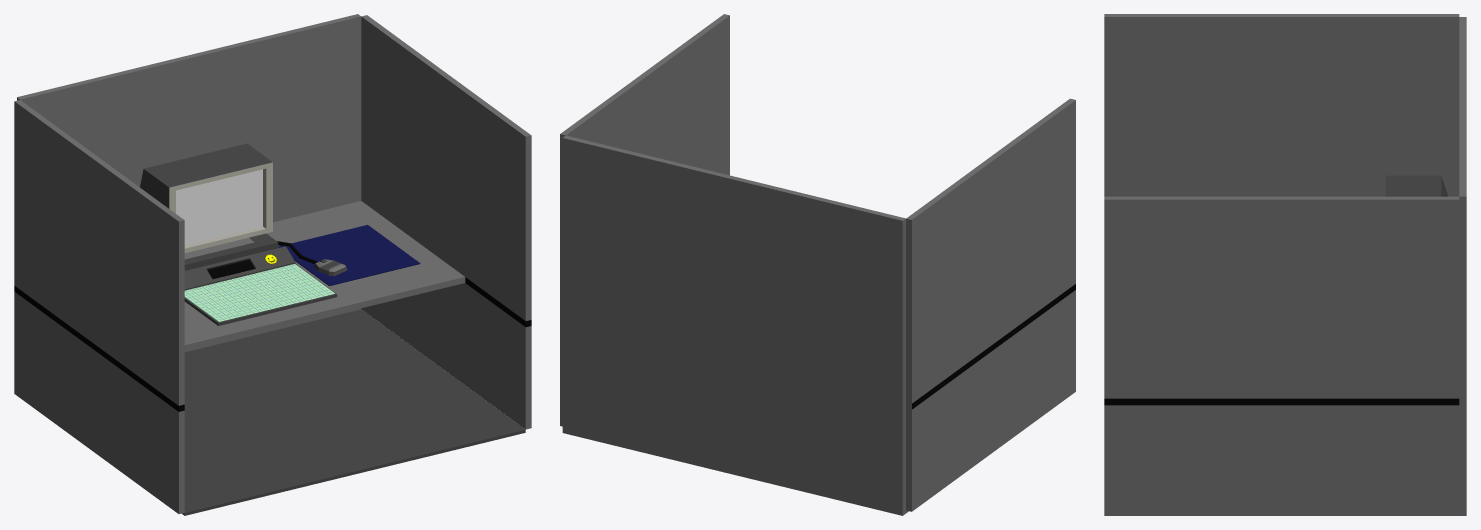
File: Stressful Minesweeper2.fbx
3 renders of one model, left to right at view 1: azimuth 30°, elevation 25°; view 2: azimuth 150°, elevation 25°; view 3: azimuth 270°, elevation 25°, orthographic. The views are drawn at different scales.
Visible parts, largest first — view 1: Wall, Desk, Computer, Cube.002, Console, Cube; view 2: Wall, Desk; view 3: Wall, Desk, Computer.
Part boxes in pixels (x1,y1,x2,y2): Wall: (14,15,531,515); Desk: (17,14,465,351); Computer: (140,143,272,252); Cube.002: (278,225,420,285); Console: (184,246,337,325); Cube: (184,233,278,270); Wall: (560,14,1075,515); Desk: (560,134,911,511); Wall: (1104,14,1466,515); Desk: (1459,17,1466,196); Computer: (1385,175,1448,196).
Bounding box in the file's own units: 12124 × 9718 × 9992.
